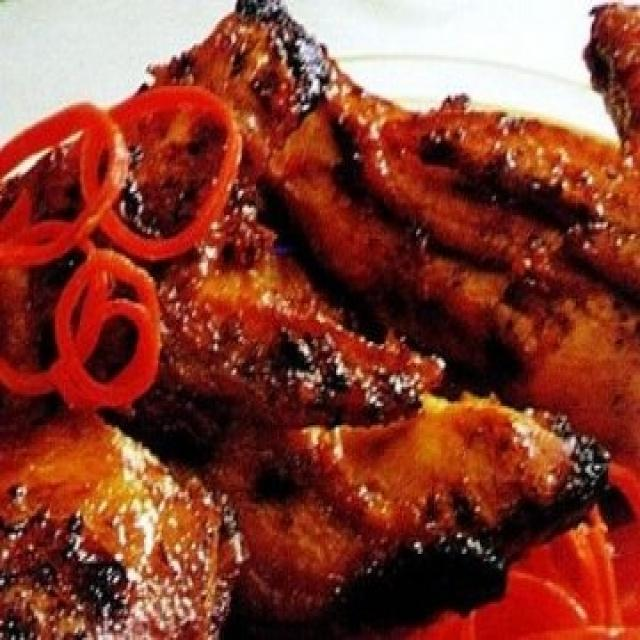鸡肉料理 含炸鸡: (12, 24, 618, 628)
